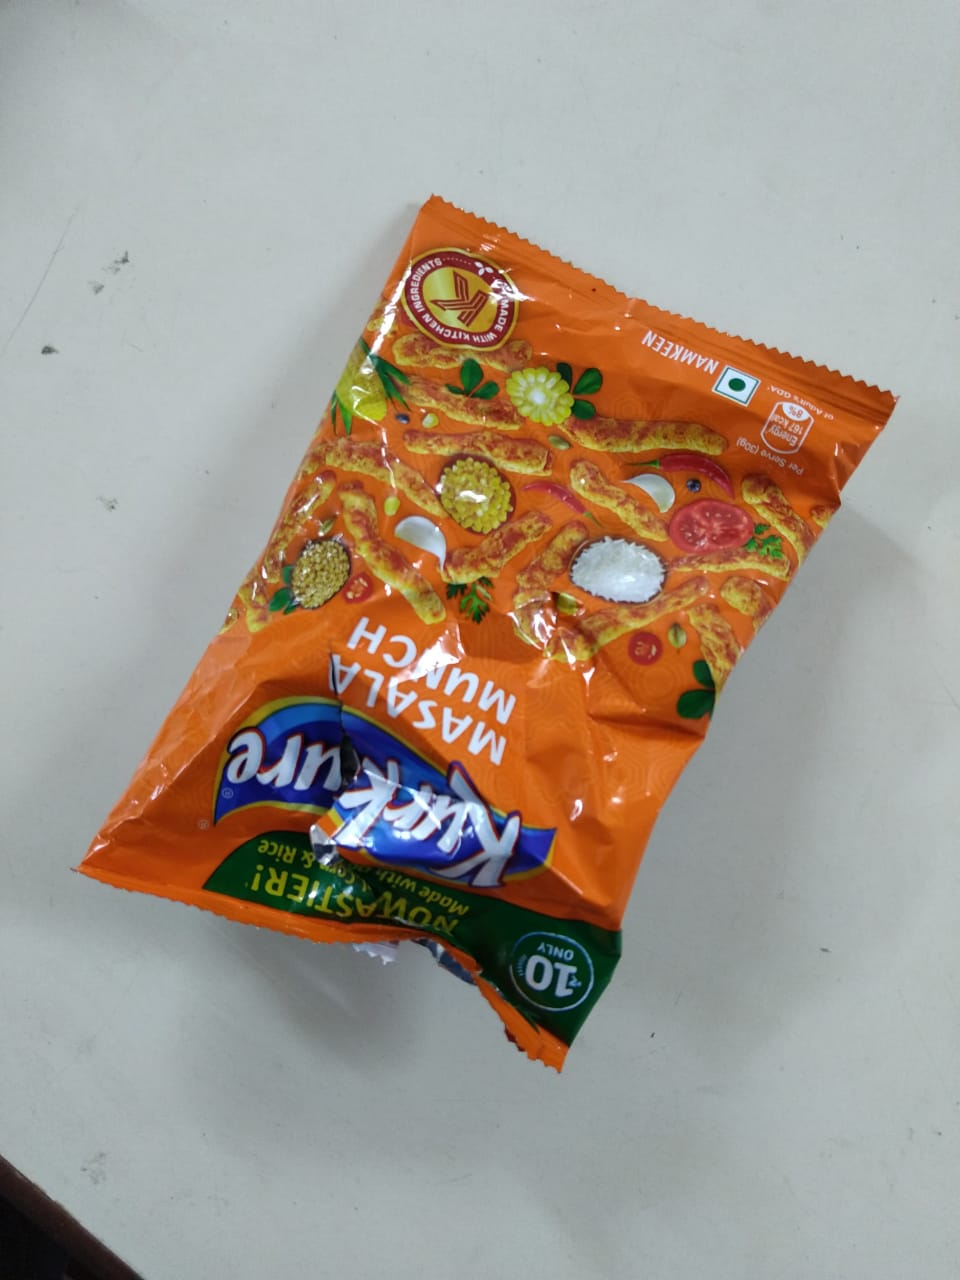kurkure: (188, 653, 580, 939), (302, 702, 568, 894), (325, 698, 531, 902), (210, 678, 443, 845), (214, 684, 441, 831)
plastic: (86, 256, 904, 1012)
wrapper: (257, 214, 733, 1061)
